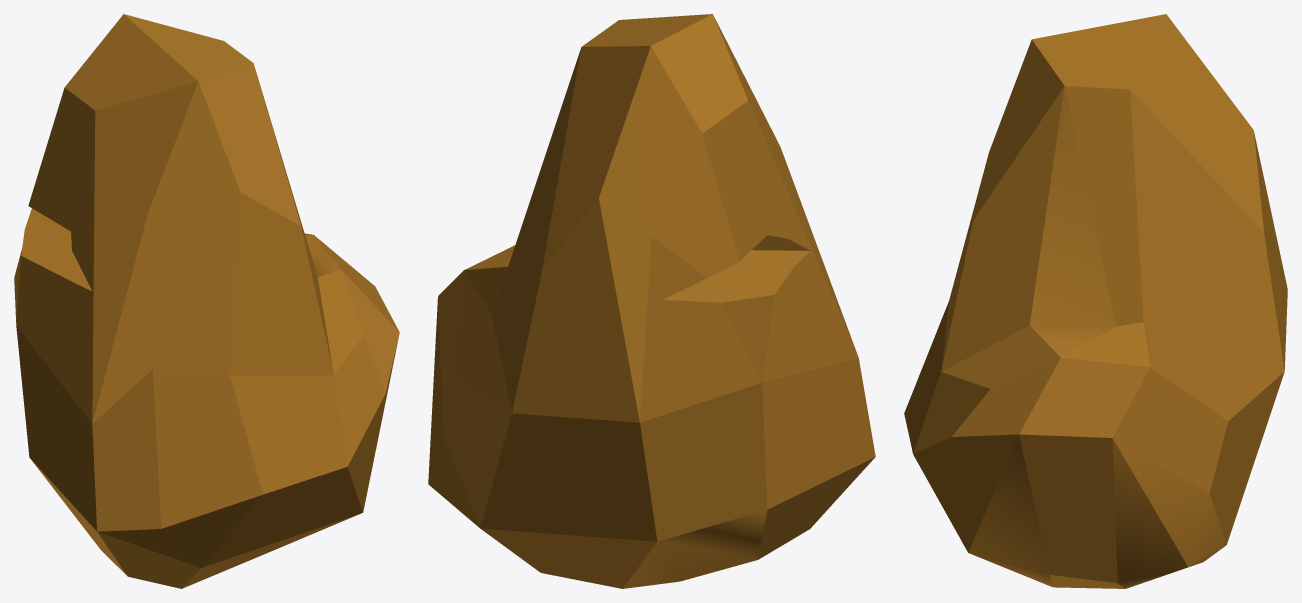
Rendered from DesertRock4.fbx.
The picture shows the model from 3 angles, left to right: view 1: azimuth 30°, elevation 25°; view 2: azimuth 150°, elevation 25°; view 3: azimuth 270°, elevation 25°; orthographic projection. The views are drawn at different scales.
Parts seen in each view (by area): view 1: Cube; view 2: Cube; view 3: Cube.
Part boxes in pixels (x1,y1,x2,y2): Cube: (14, 14, 399, 588); Cube: (428, 14, 875, 588); Cube: (904, 14, 1287, 588).
Size of the model in its own units: 146 by 211 by 140.
